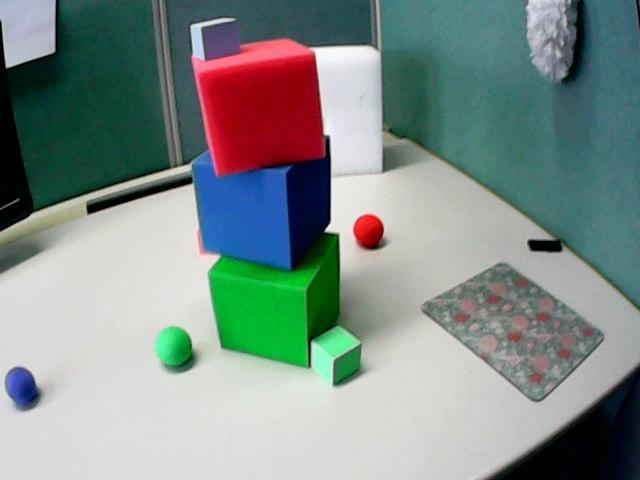blue_block: (192, 138, 331, 270), (190, 17, 239, 59)
red_block: (192, 39, 324, 175)
